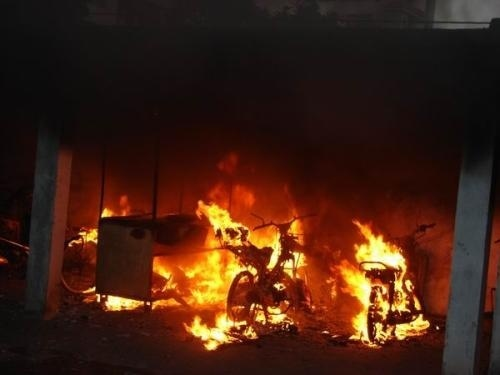fire: (86, 147, 439, 354), (71, 225, 99, 245)
